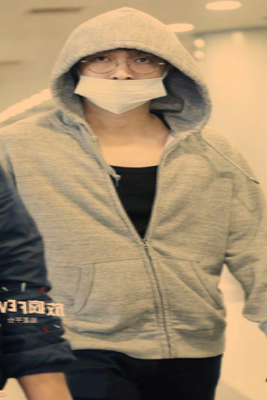mask_weared_incorrect: (73, 50, 171, 114)
